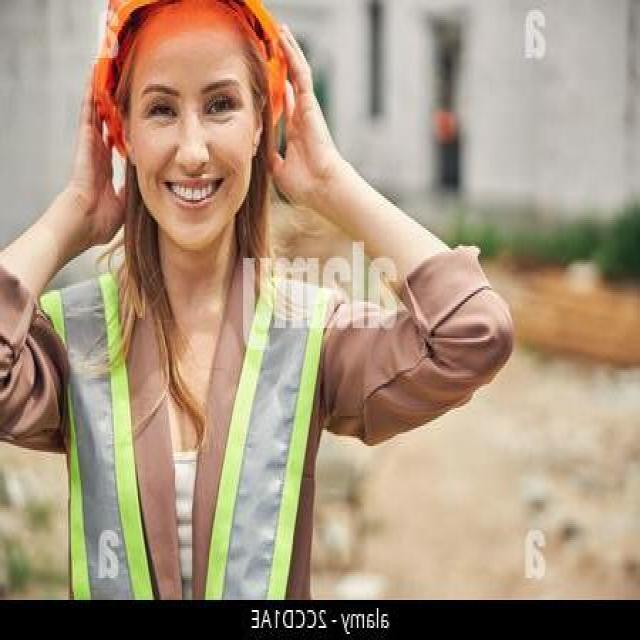Reflective-Jacket: (37, 232, 360, 598)
Safety-Helmet: (82, 0, 306, 124)
